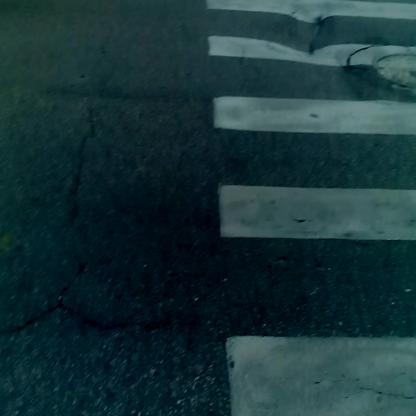crosswalk: (201, 11, 411, 416)
